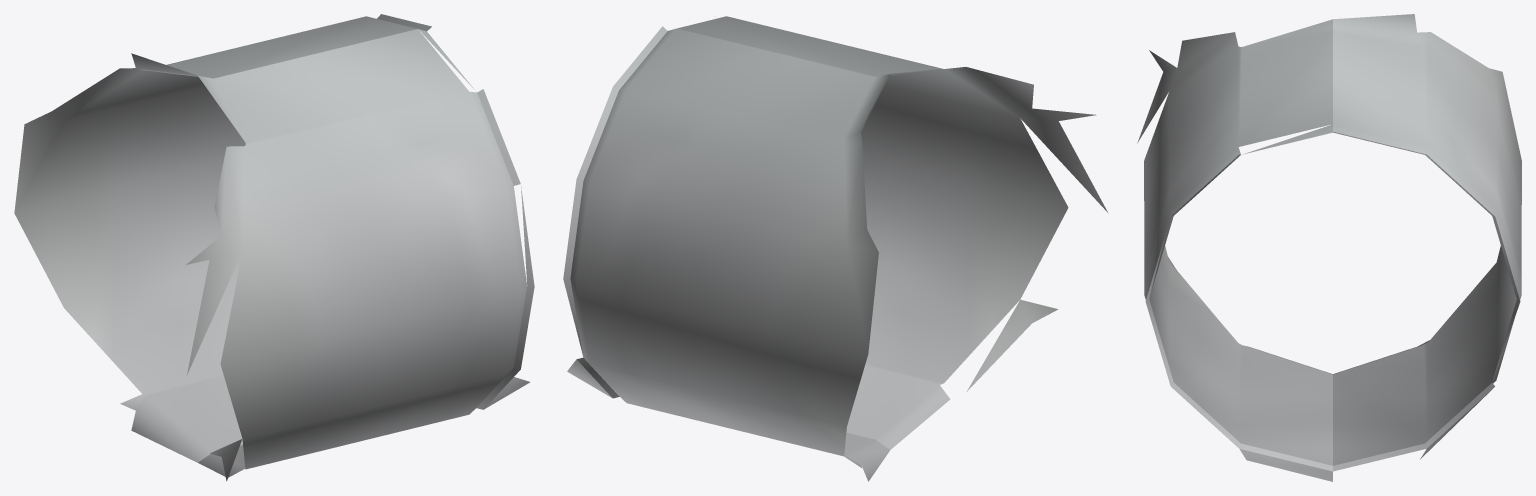
The picture shows the model from 3 angles, left to right: view 1: azimuth 30°, elevation 25°; view 2: azimuth 150°, elevation 25°; view 3: azimuth 270°, elevation 25°; orthographic projection. The views are drawn at different scales.
Size of the model in its own units: 0.2104 by 0.1911 by 0.1878.
